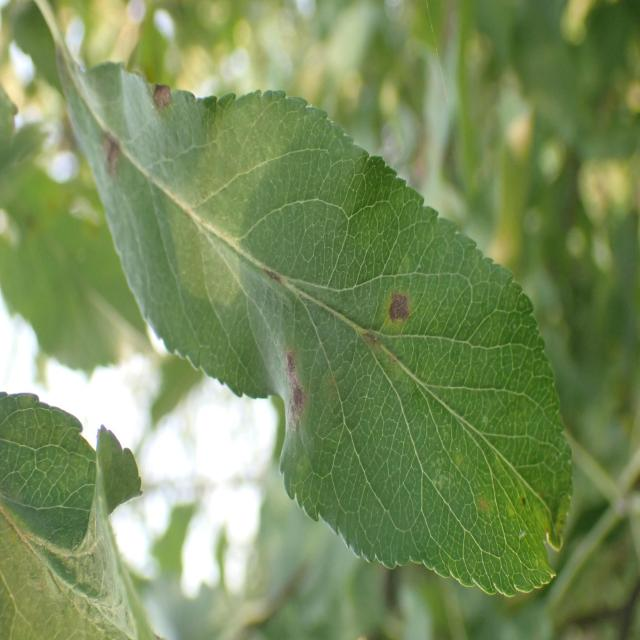scab: (100, 65, 468, 469)
